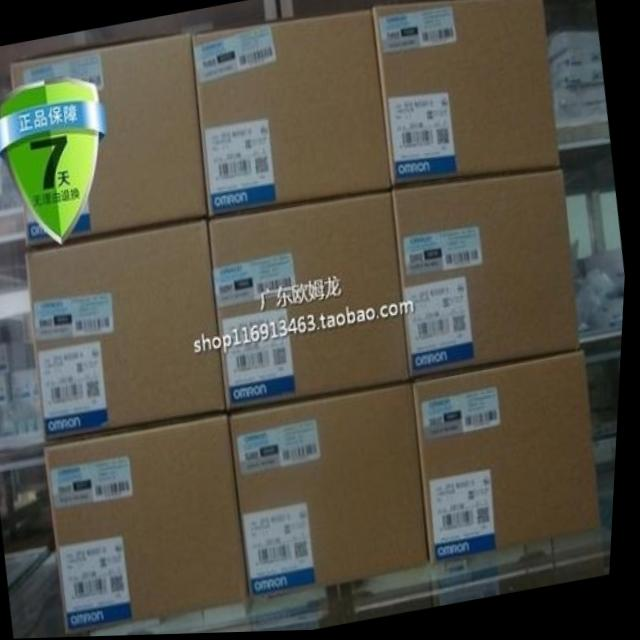box: (49, 418, 254, 633), (27, 223, 230, 440), (211, 195, 414, 409), (234, 387, 434, 602), (11, 33, 209, 245), (191, 12, 393, 214), (416, 354, 607, 566), (394, 173, 583, 378), (372, 0, 560, 186)
